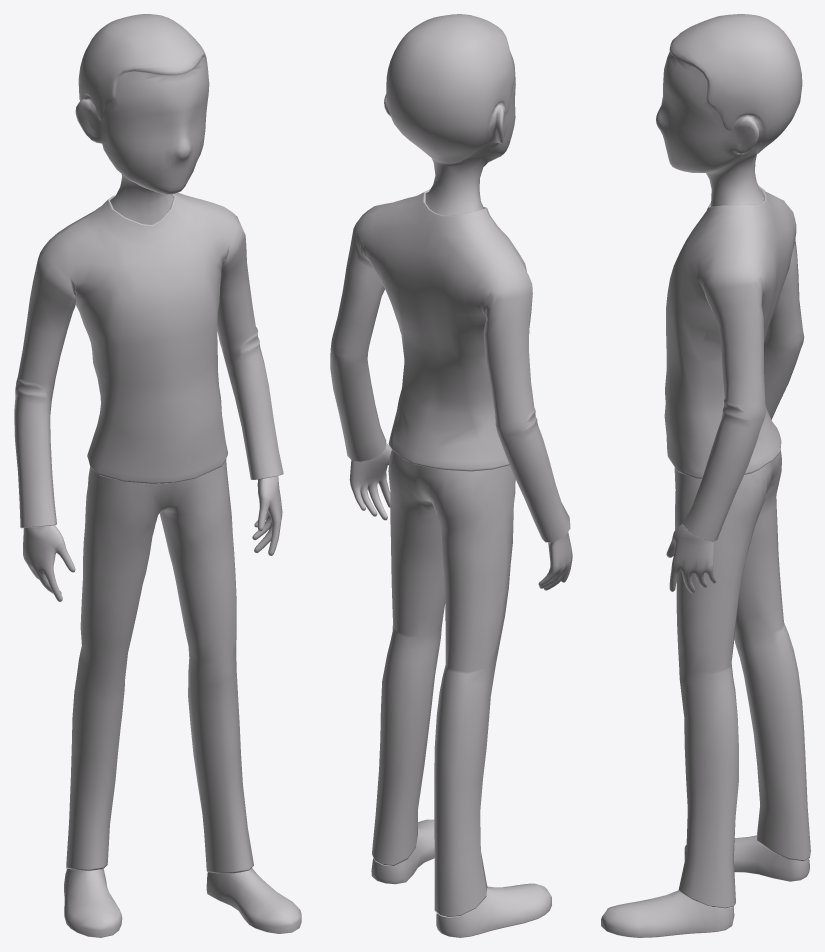
File: Orang.fbx
3 renders of one model, left to right at view 1: azimuth 30°, elevation 25°; view 2: azimuth 150°, elevation 25°; view 3: azimuth 270°, elevation 25°, orthographic.
Parts seen in each view (by area): view 1: root; view 2: root; view 3: root.
Part boxes in pixels (x1,y1,x2,y2): root: (14,14,301,937); root: (330,14,572,937); root: (601,14,810,937).
Bounding box in the file's own units: 0.1288 × 0.4548 × 0.0996.
1 material, 1 textured.
